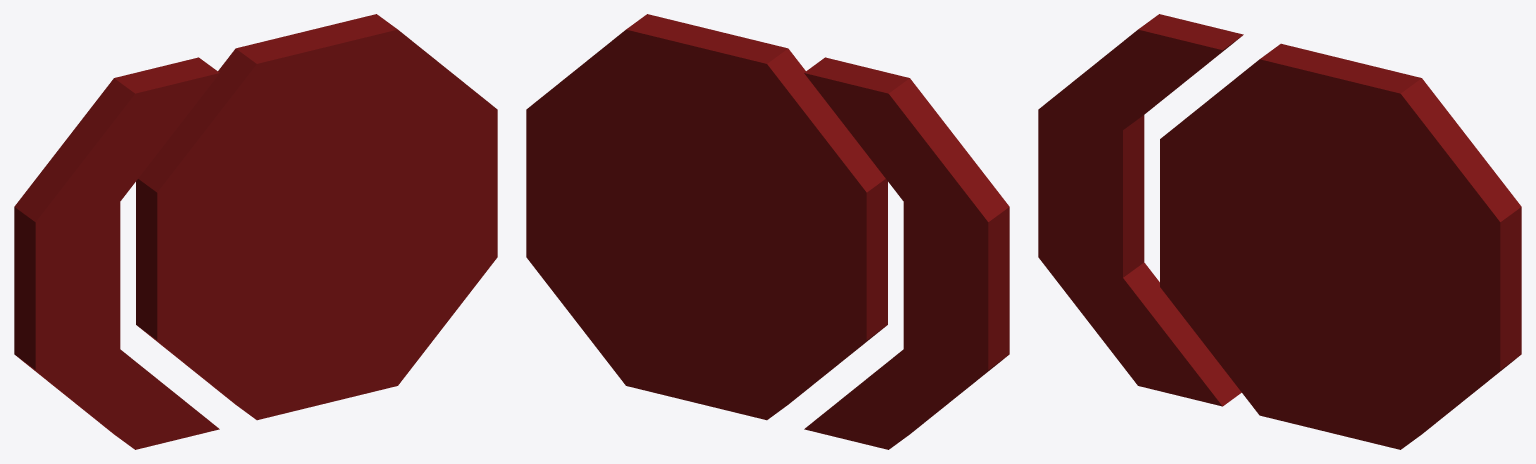
File: PM-Idol-Puck.fbx
The picture shows the model from 3 angles, left to right: view 1: azimuth 30°, elevation 25°; view 2: azimuth 150°, elevation 25°; view 3: azimuth 330°, elevation 25°; orthographic projection.
Visible parts, largest first — view 1: Circle; view 2: Circle; view 3: Circle.
Part boxes in pixels (box(x1,y1,x2,y2)): Circle: box(14, 14, 497, 449); Circle: box(526, 14, 1009, 449); Circle: box(1038, 14, 1521, 449).
Size of the model in its own units: 251 by 185 by 20.
